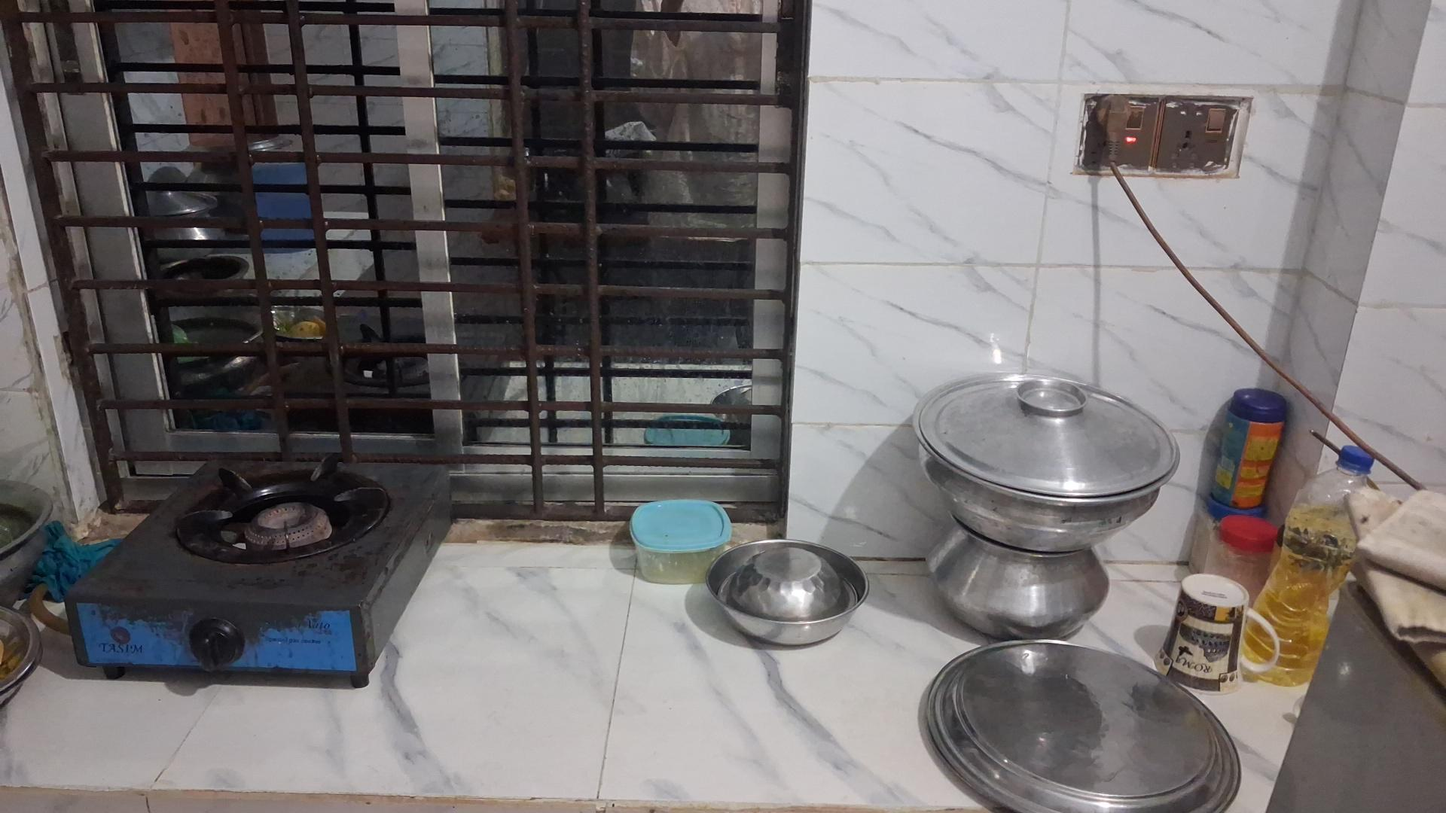Bottle: (1239, 444, 1377, 689)
Bowl: (705, 538, 868, 646)
Cup: (1156, 578, 1269, 691)
Jar: (628, 498, 733, 585), (1218, 386, 1286, 514)
Plate: (920, 645, 1247, 813)
Pot: (920, 369, 1178, 554), (925, 527, 1107, 638)
